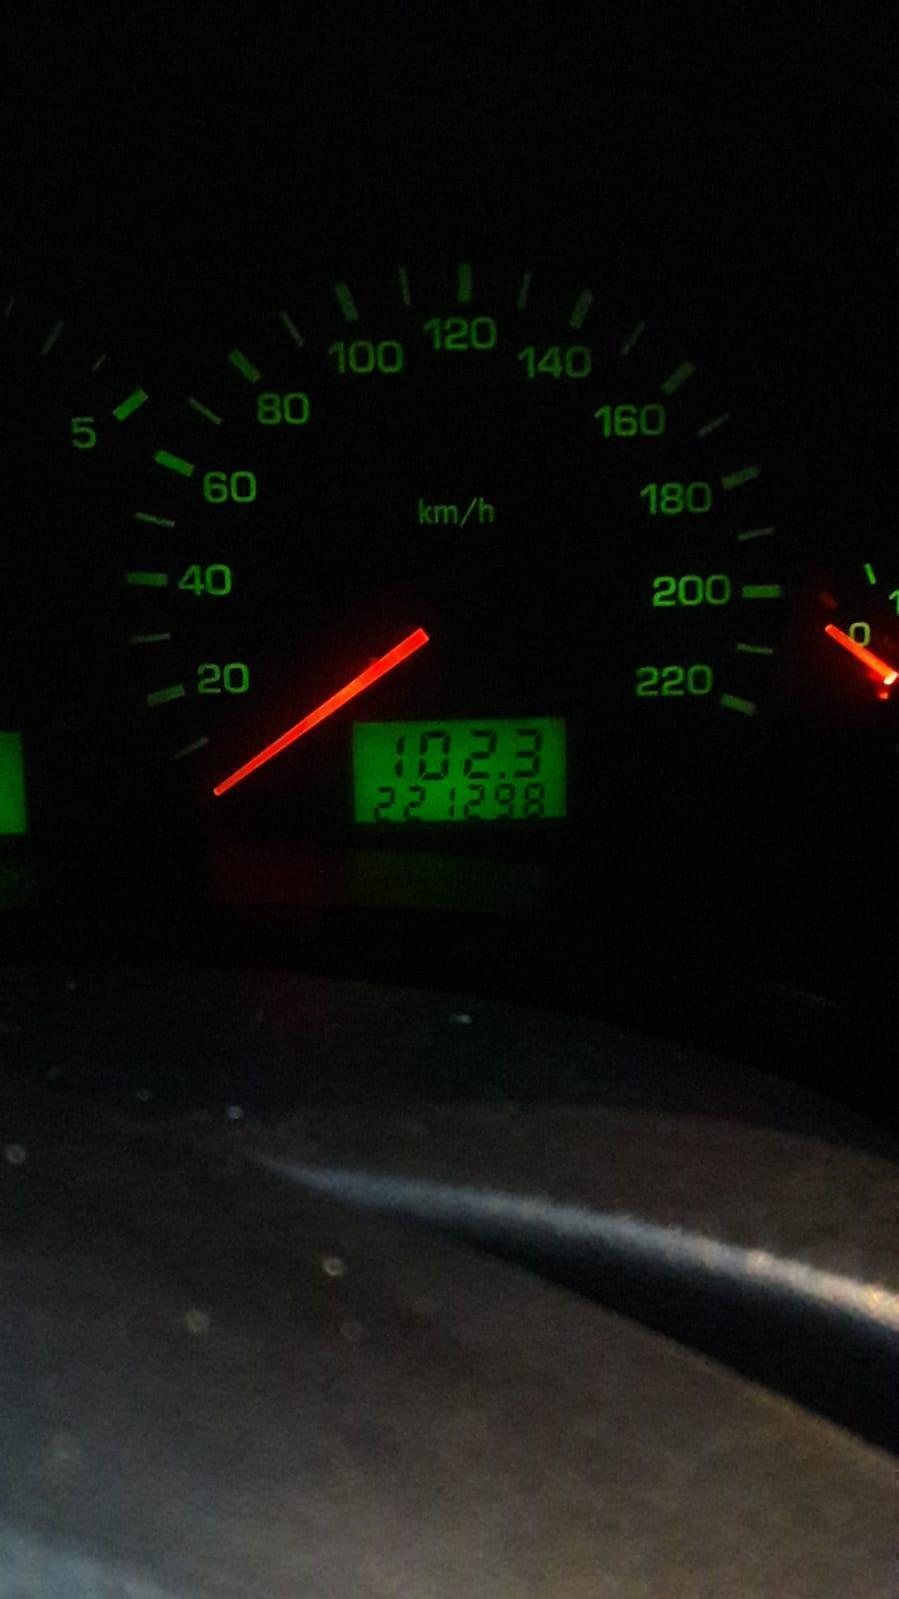,: (497, 771, 506, 779)
0: (417, 728, 451, 781)
1: (392, 734, 405, 779), (447, 787, 456, 818)
2: (462, 728, 497, 779), (462, 784, 485, 820), (372, 786, 395, 821), (402, 785, 424, 821)
3: (512, 728, 542, 778)
8: (522, 783, 546, 818)
9: (494, 783, 514, 819)
odometer: (348, 713, 570, 825)
